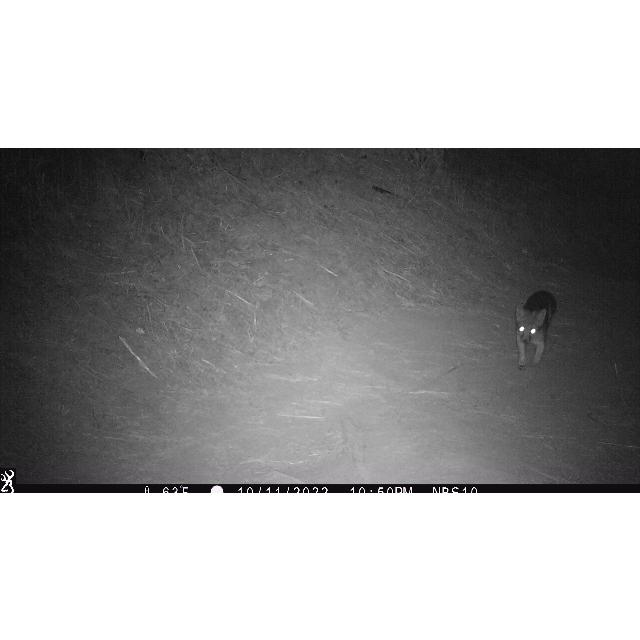animals: (514, 288, 558, 372)
